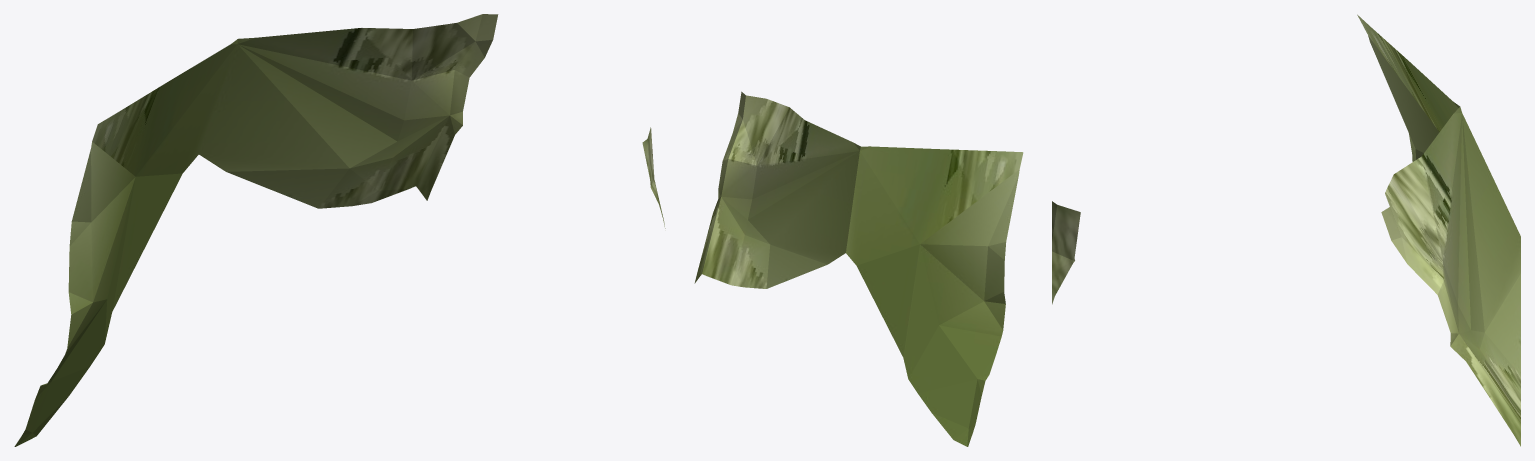
The picture shows the model from 3 angles, left to right: view 1: azimuth 30°, elevation 25°; view 2: azimuth 150°, elevation 25°; view 3: azimuth 270°, elevation 25°; orthographic projection. The views are drawn at different scales.
Bounding box in the file's own units: 2.95 × 2.62 × 2.95.
Materials: 2 (2 with a texture image).
